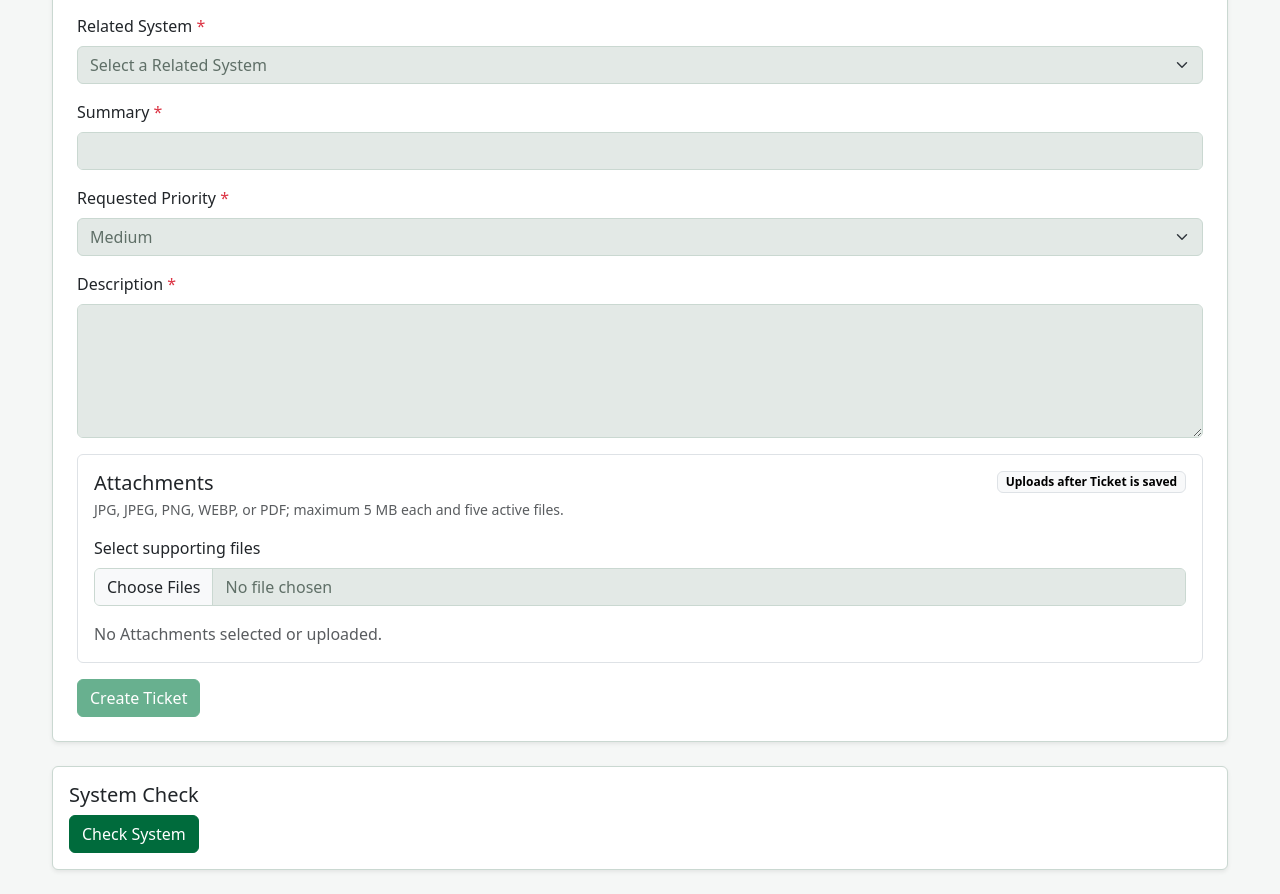
it: App › shows an Offline error message when the API is unavailable
The width and height of the screenshot is (1280, 894).
(page scrolled)
What coordinates should you click on to do the following:
click the button "Check System"
I would click on:
 (134, 834)
Its box is [69,815,199,853].
(page scrolled)
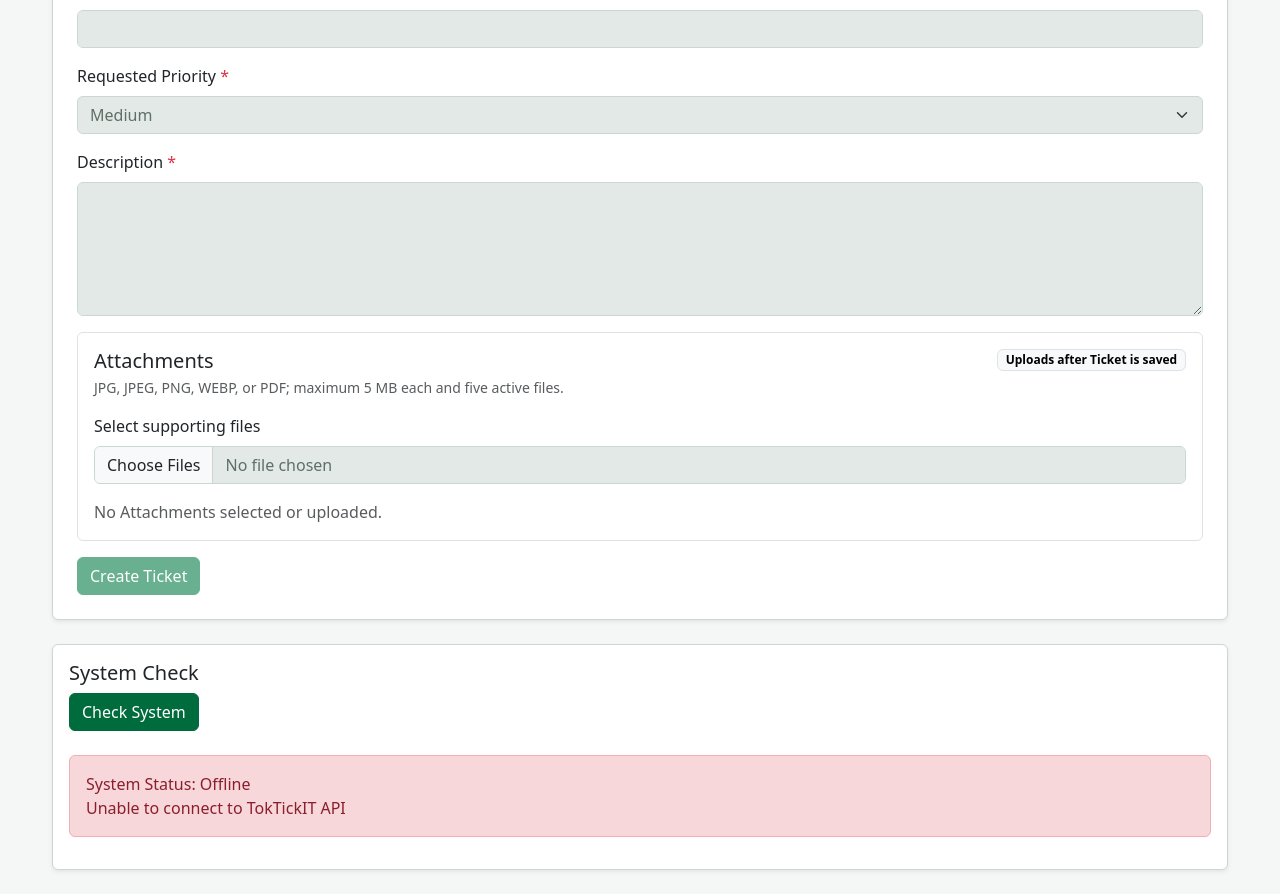
Expected: the text "System Status: Offline" is shown, [86,773,250,795]
Expected: the text "Unable to connect to TokTickIT API" is shown, [86,797,346,819]
